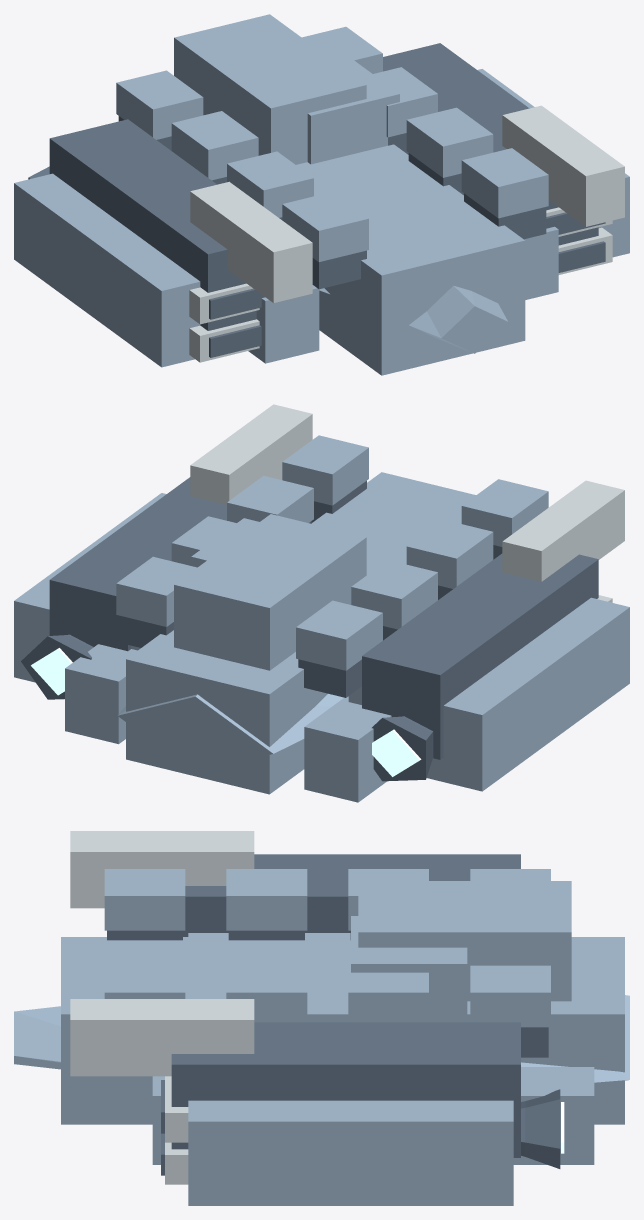
The picture shows the model from 3 angles, top to bottom: view 1: azimuth 30°, elevation 25°; view 2: azimuth 150°, elevation 25°; view 3: azimuth 270°, elevation 25°; orthographic projection. The views are drawn at different scales.
Size of the model in its own units: 15.65 by 5.92 by 16.17.
